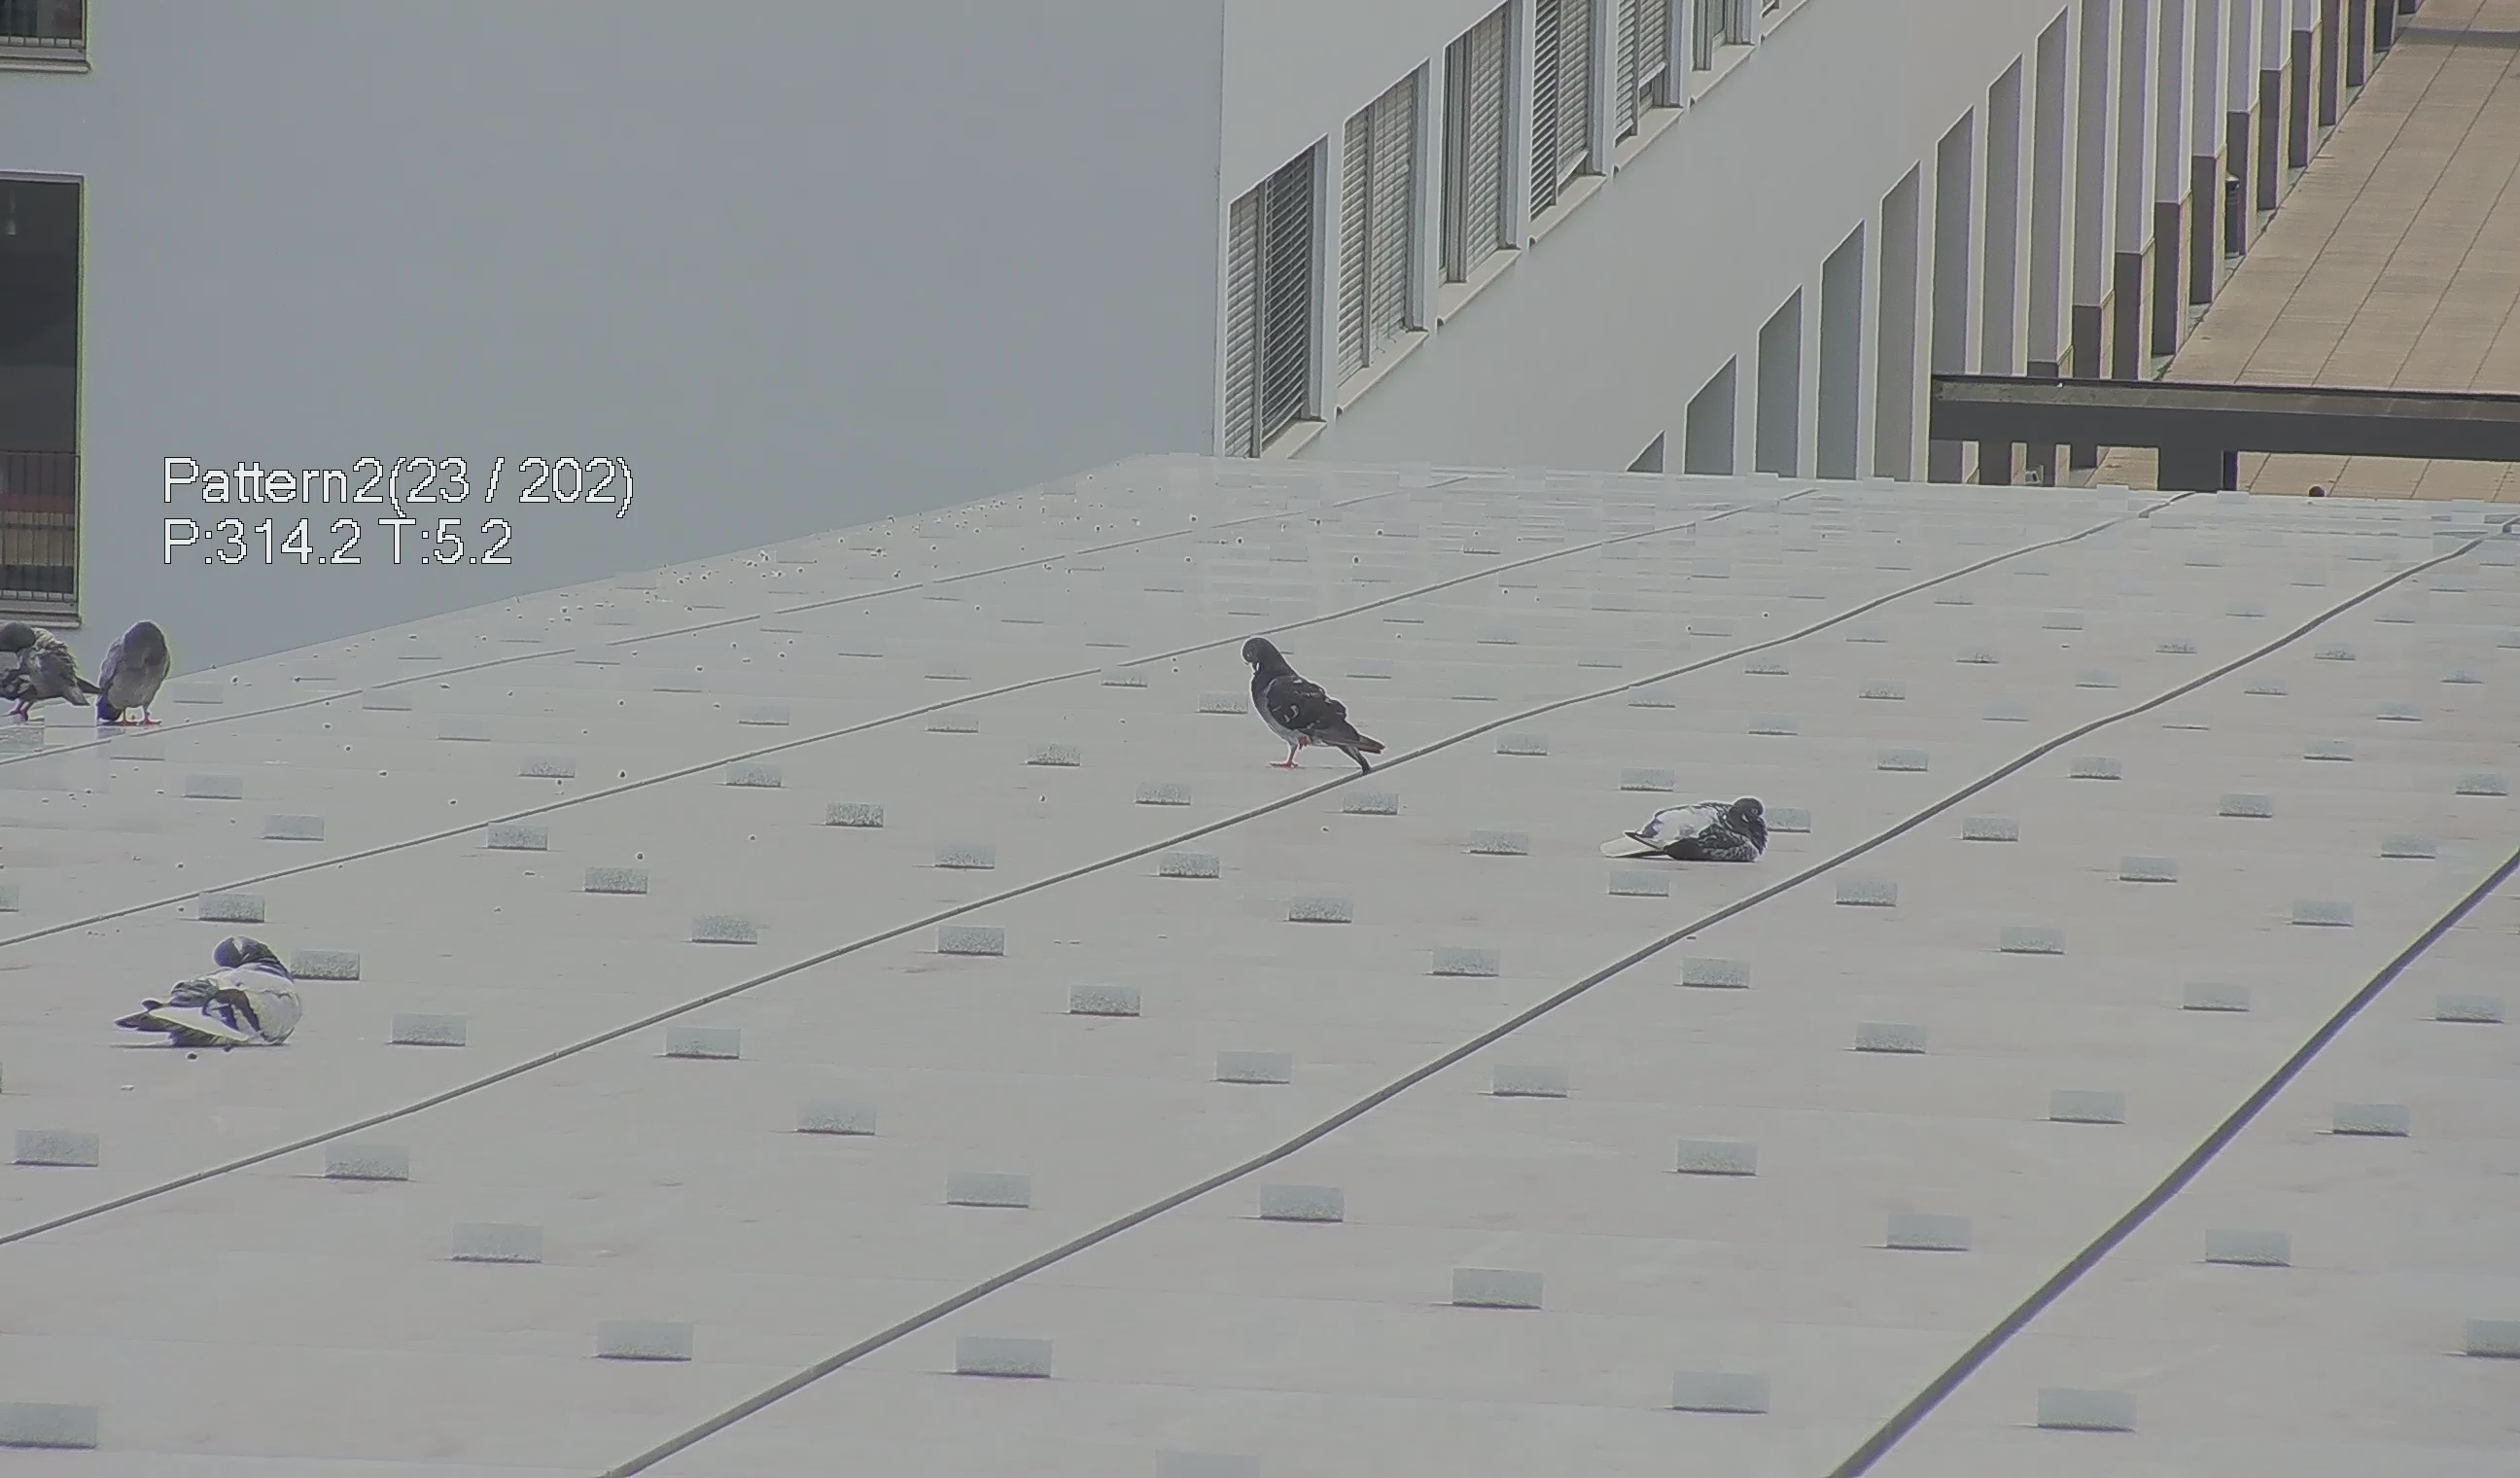Pigeon: (113, 927, 315, 1072), (1226, 621, 1389, 779), (1588, 783, 1790, 873), (88, 611, 192, 734), (2, 605, 104, 727)
